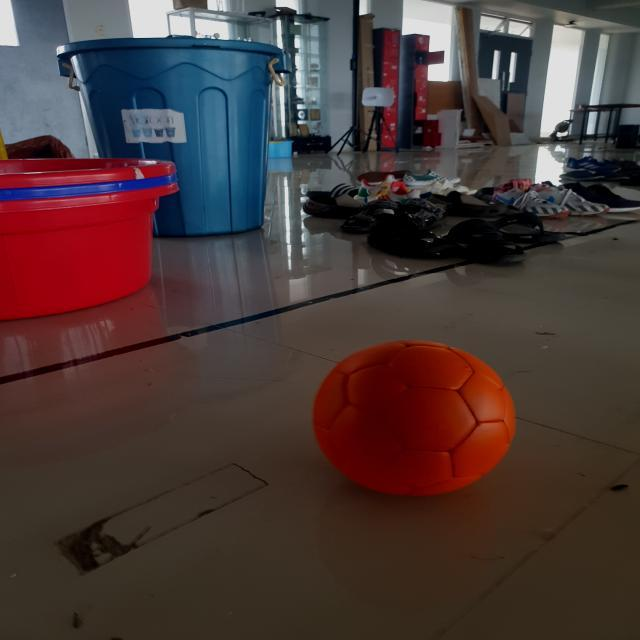bola: (286, 330, 532, 504)
